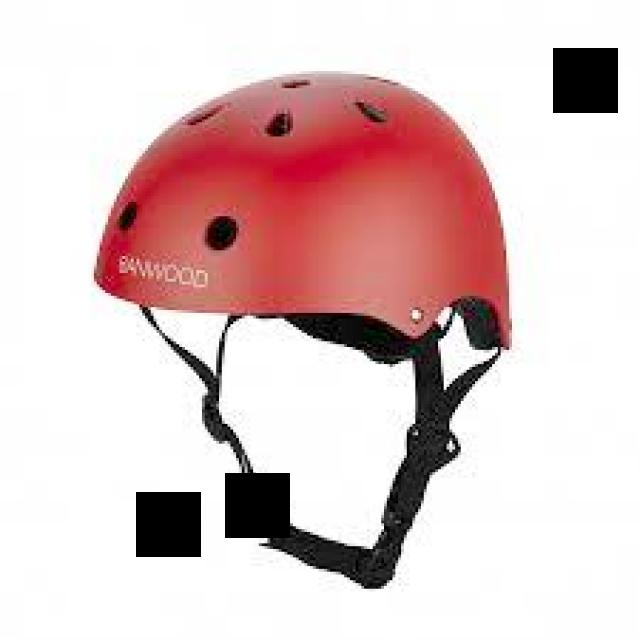Helmet: (70, 55, 523, 373)
